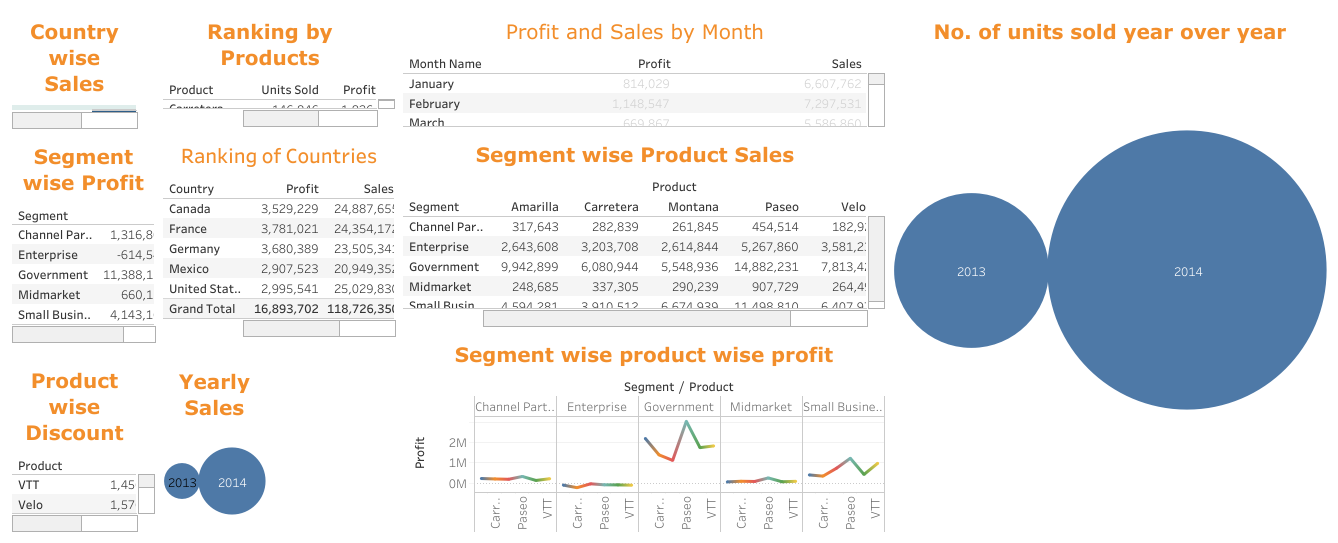

What the dashboard file says about the page in this screenshot:
{"tool":"tableau","page":{"name":"Dashboard 1","canvas":[1000,1000],"units":"permille","ordinal":0},"visuals":[{"type":"worksheet","title":"Sheet 4","mark":"Square","rows":["Country"],"box":[4.2,7.4,113.4,232.4]},{"type":"worksheet","title":"Sheet 8","mark":"Automatic","rows":["Product"],"box":[117.6,7.4,179.7,229.7]},{"type":"worksheet","title":"Sheet 5","mark":"Automatic","rows":["Month Name"],"box":[297.3,7.4,367.3,229.7]},{"type":"worksheet","title":"Sheet 10","mark":"Circle","box":[664.6,7.4,331.2,985.2]},{"type":"worksheet","title":"Sheet 7","mark":"Automatic","rows":["Country"],"box":[117.6,237.1,179.7,424.2]},{"type":"worksheet","title":"Sheet 12","mark":"Automatic","rows":["Segment"],"cols":["Product"],"box":[297.3,237.1,367.3,373]},{"type":"worksheet","title":"Sheet 2","mark":"Automatic","rows":["Segment"],"box":[4.2,239.8,113.4,418.4]},{"type":"worksheet","title":"Sheet 13","mark":"Line","rows":["Profit"],"cols":["Segment","Product"],"box":[297.3,610.1,367.3,382.5]},{"type":"worksheet","title":"Sheet 9","mark":"Automatic","rows":["Product"],"box":[4.2,658.2,113.4,334.4]},{"type":"worksheet","title":"Sheet 3","mark":"Circle","box":[117.6,661.2,179.7,331.3]}]}

Visuals, with their boxes on the dashboard's canvas, which has no fixed pixel size, in thousandths of its width and height (x1, y1, x2, y2). These are canvas units, not pixel positions in the 1338x543 screenshot, which may show the page scaled, cropped or inside an application window:
"Sheet 4" worksheet (Square marks): [4,7,118,240]
"Sheet 8" worksheet: [118,7,297,237]
"Sheet 5" worksheet: [297,7,665,237]
"Sheet 10" worksheet (Circle marks): [665,7,996,993]
"Sheet 7" worksheet: [118,237,297,661]
"Sheet 12" worksheet: [297,237,665,610]
"Sheet 2" worksheet: [4,240,118,658]
"Sheet 13" worksheet (Line marks): [297,610,665,993]
"Sheet 9" worksheet: [4,658,118,993]
"Sheet 3" worksheet (Circle marks): [118,661,297,992]
